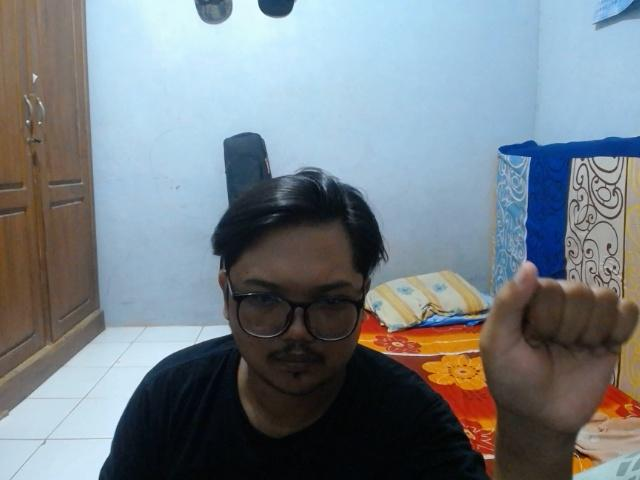Grab: (476, 256, 640, 444)
